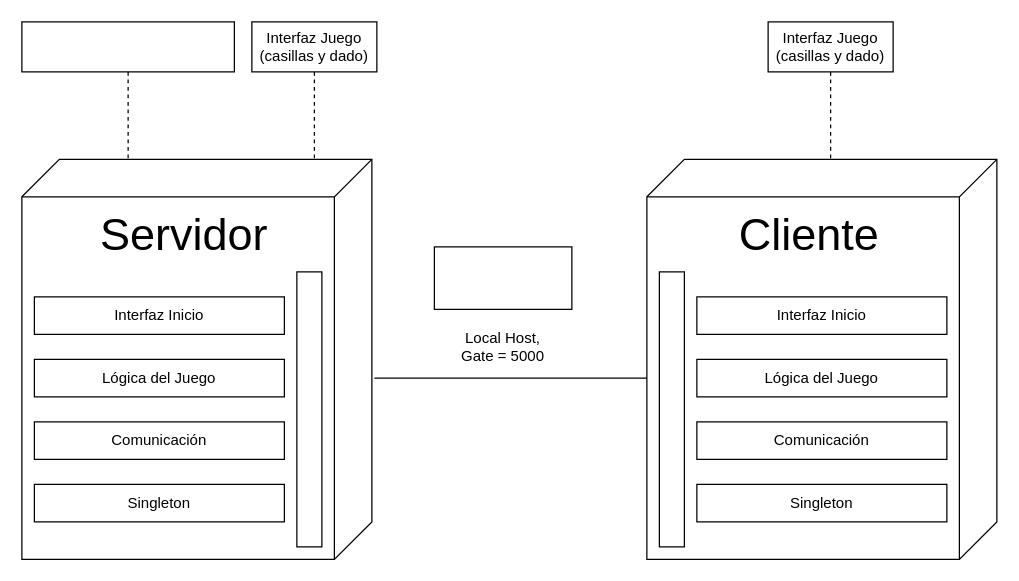
This 1019x581 diagram has some shape labels left out. The shapes that lost their labels are listed below. From the top down, each one's centre as x and y in pixels, then its label:
point 127,90: Lista Doblemente Enlazada
point 502,277: Mensaje
